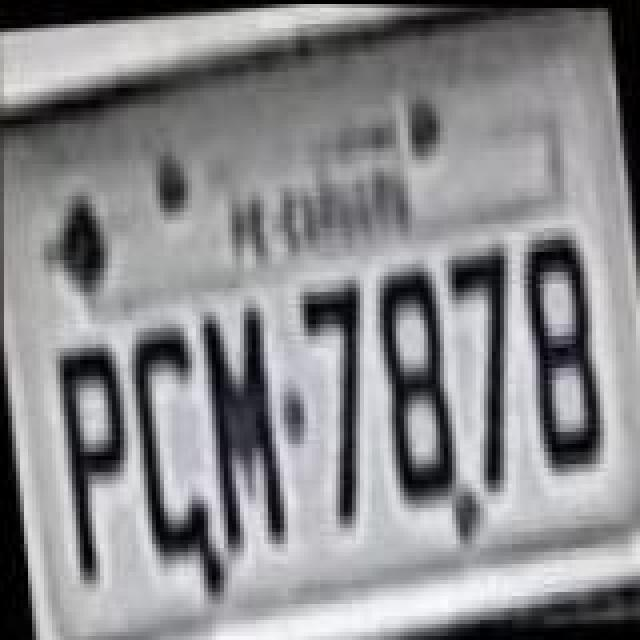7: (294, 276, 386, 532), (440, 242, 532, 494)
8: (514, 230, 610, 478), (372, 260, 460, 504)
C: (124, 318, 212, 562)
M: (198, 296, 290, 560)
P: (50, 342, 142, 590)
